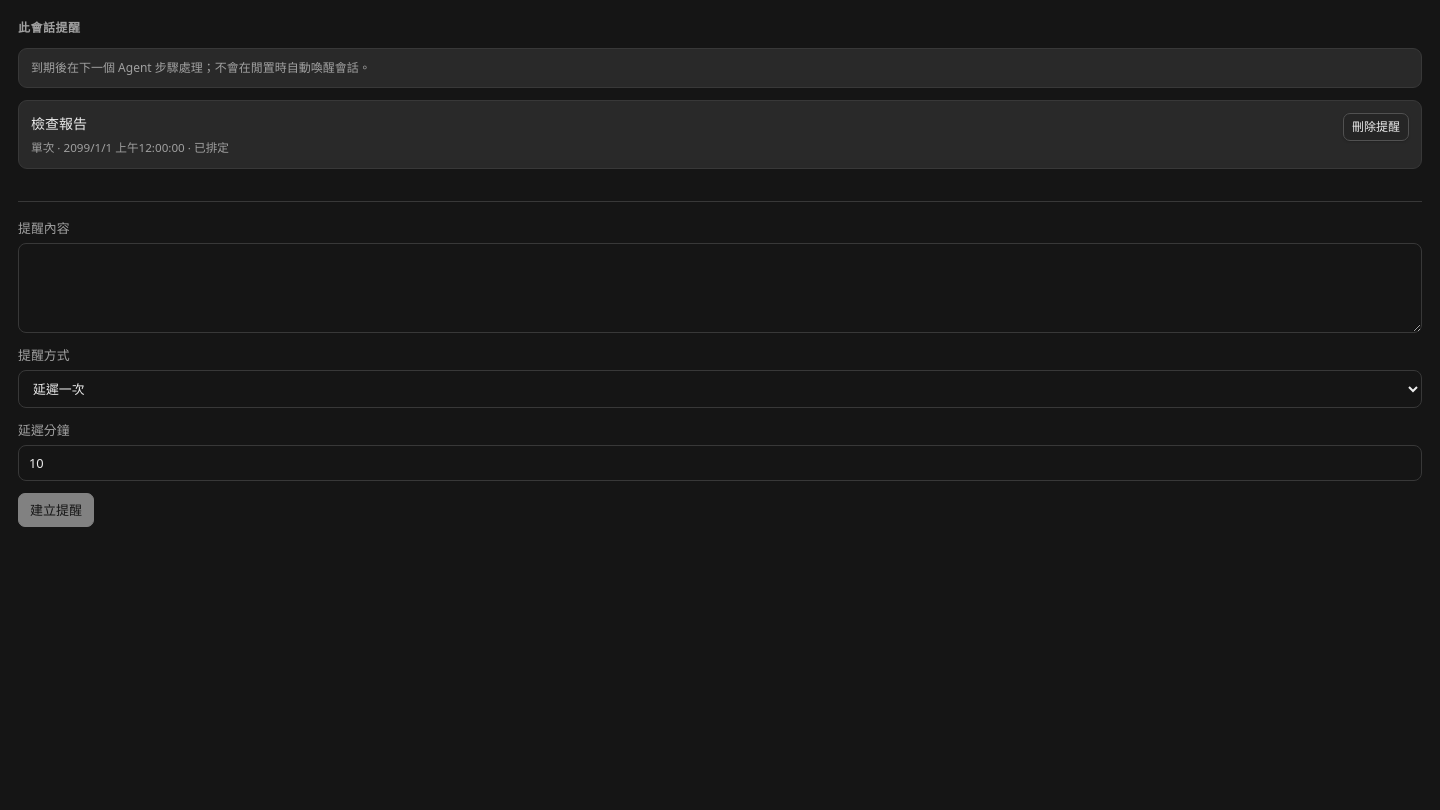
Test: lists and deletes the selected session's reminder with confirmation
This screenshot has width=1440, height=810.
Expected: the text "檢查報告" is shown, 31,114 -> 87,133
Click the button "刪除提醒". click: x=1376, y=127
box: 1343,113 -> 1409,141
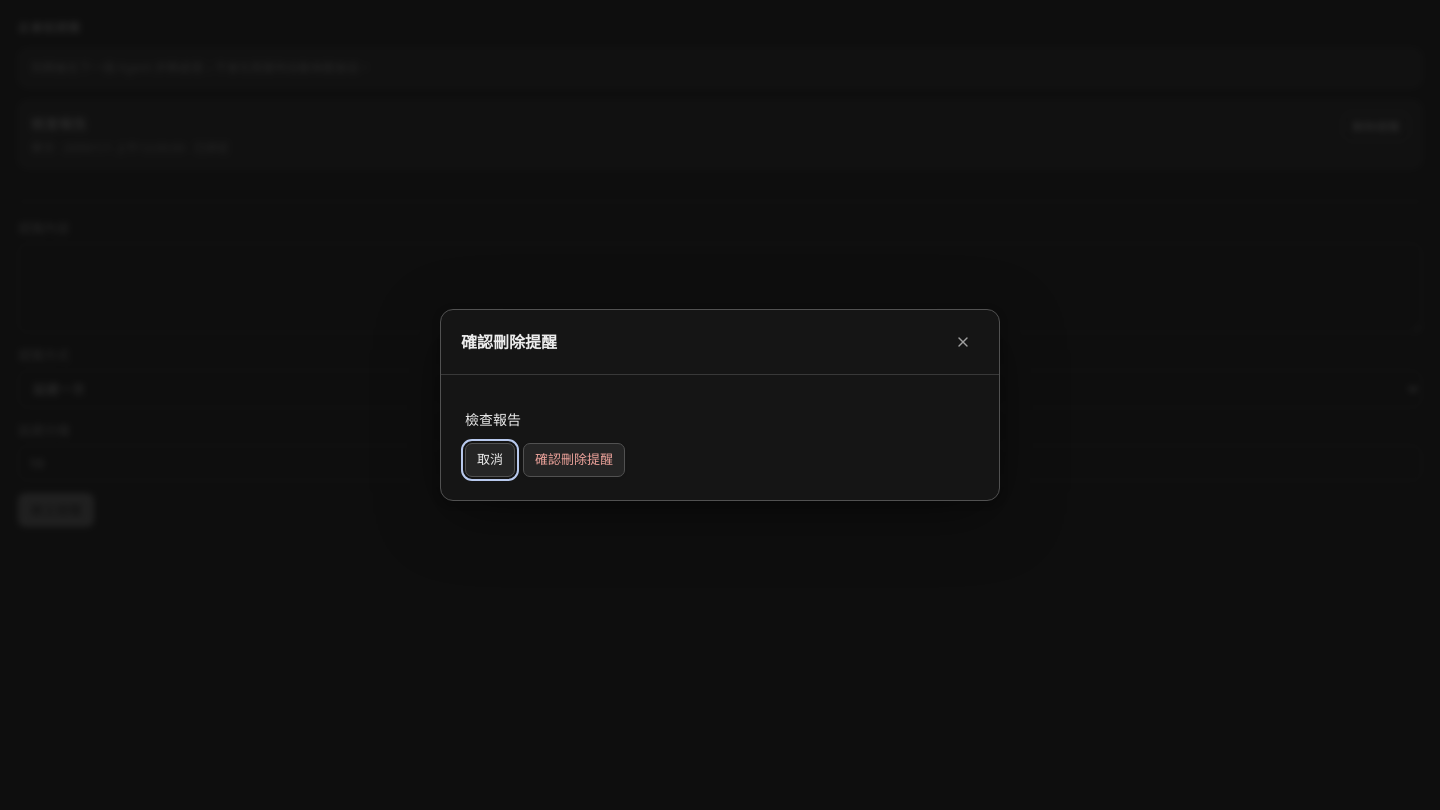
Click the button "確認刪除提醒". click: x=574, y=460
box: 523,442 -> 625,476
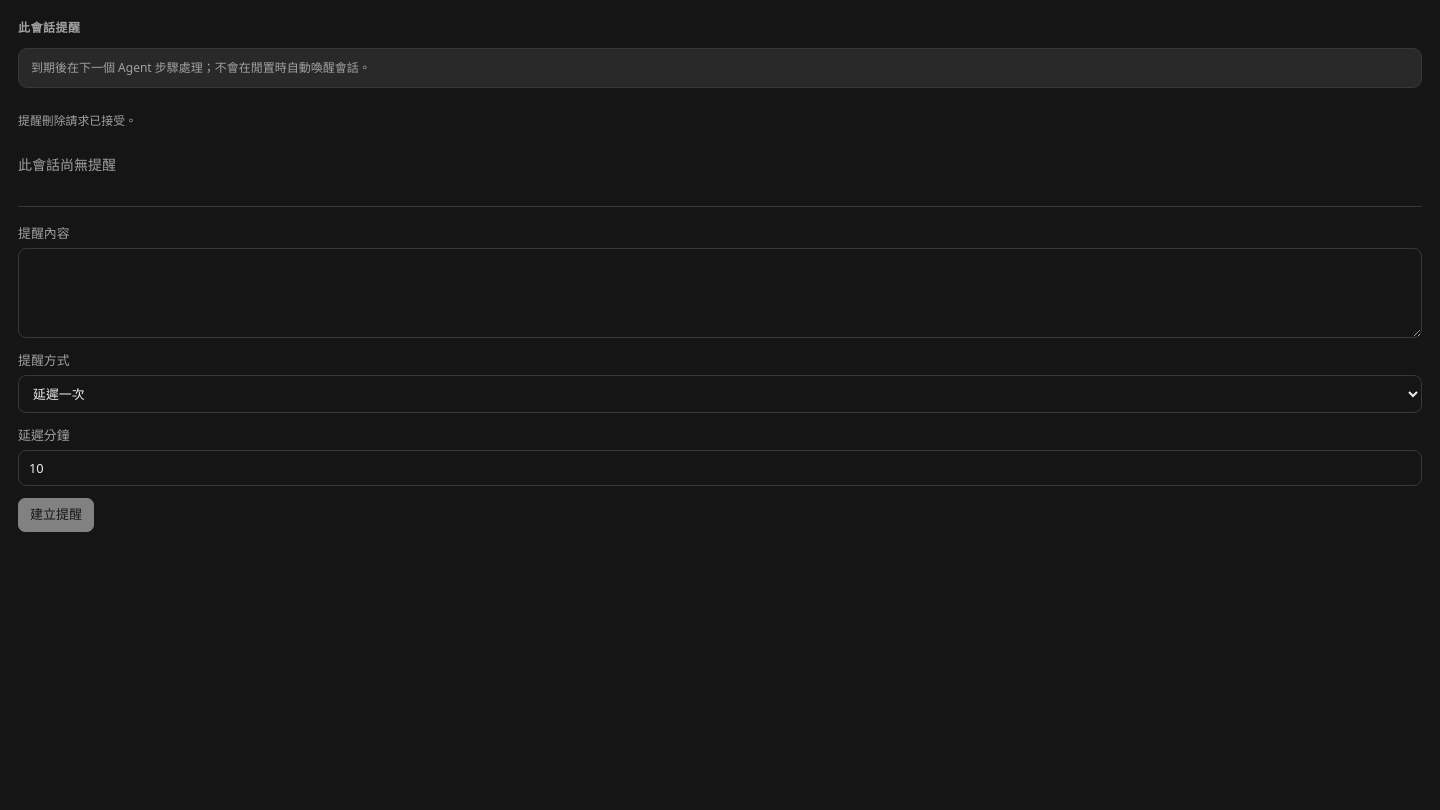
Expected: the text "檢查報告" is gone
